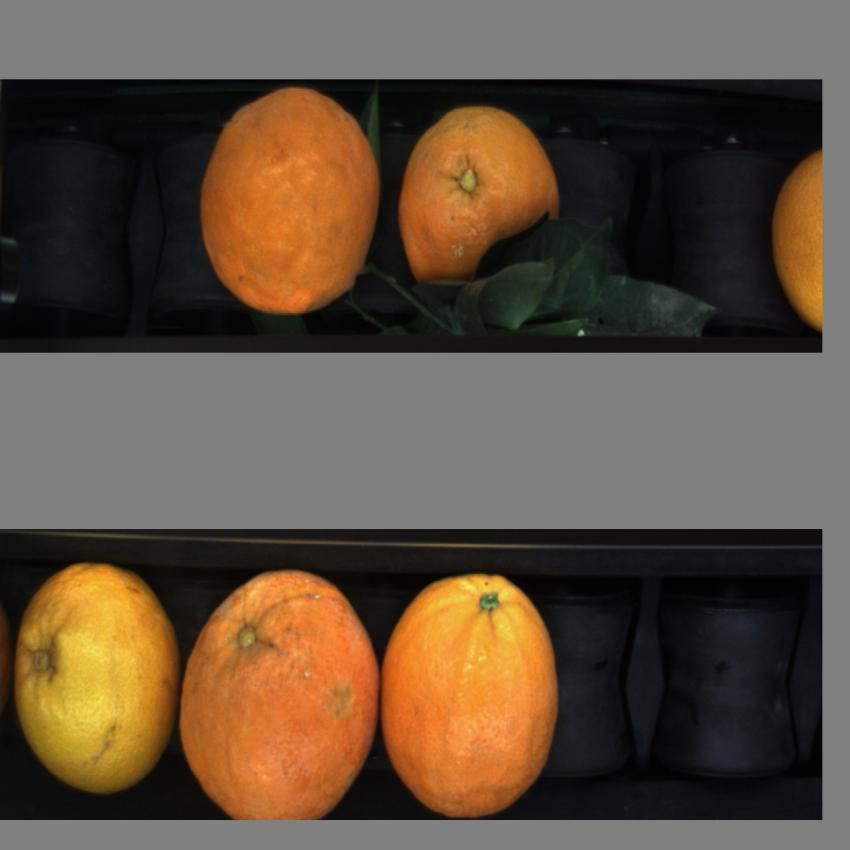Buen estado: (381, 572, 564, 812), (14, 558, 178, 790), (398, 102, 568, 304), (766, 141, 824, 325)
Mal estado: (178, 570, 380, 818), (198, 88, 380, 312)
